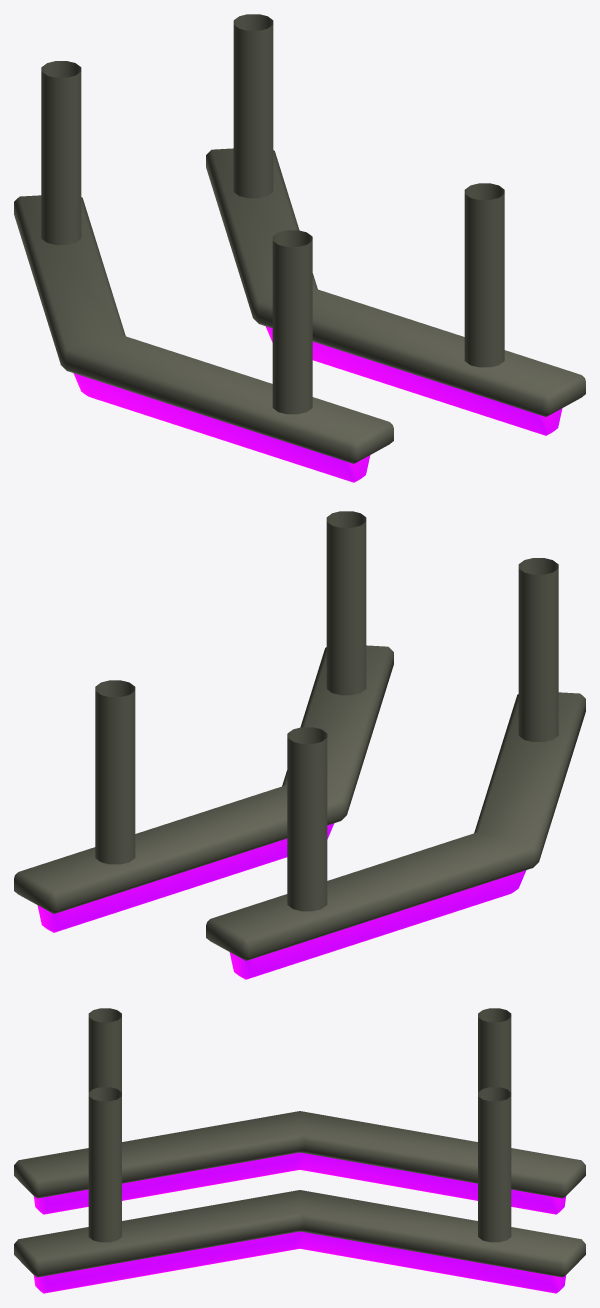
The model's file is DirectionalLight.fbx.
The picture shows the model from 3 angles, top to bottom: view 1: azimuth 30°, elevation 25°; view 2: azimuth 150°, elevation 25°; view 3: azimuth 270°, elevation 25°; orthographic projection. The views are drawn at different scales.
Parts seen in each view (by area): view 1: DirectionalLight; view 2: DirectionalLight; view 3: DirectionalLight.
Boxes of the visible parts, bbox=[...] form: DirectionalLight: bbox=[14, 14, 585, 482]; DirectionalLight: bbox=[14, 511, 585, 979]; DirectionalLight: bbox=[14, 1008, 585, 1293].
Bounding box in the file's own units: 382 × 220 × 612.
